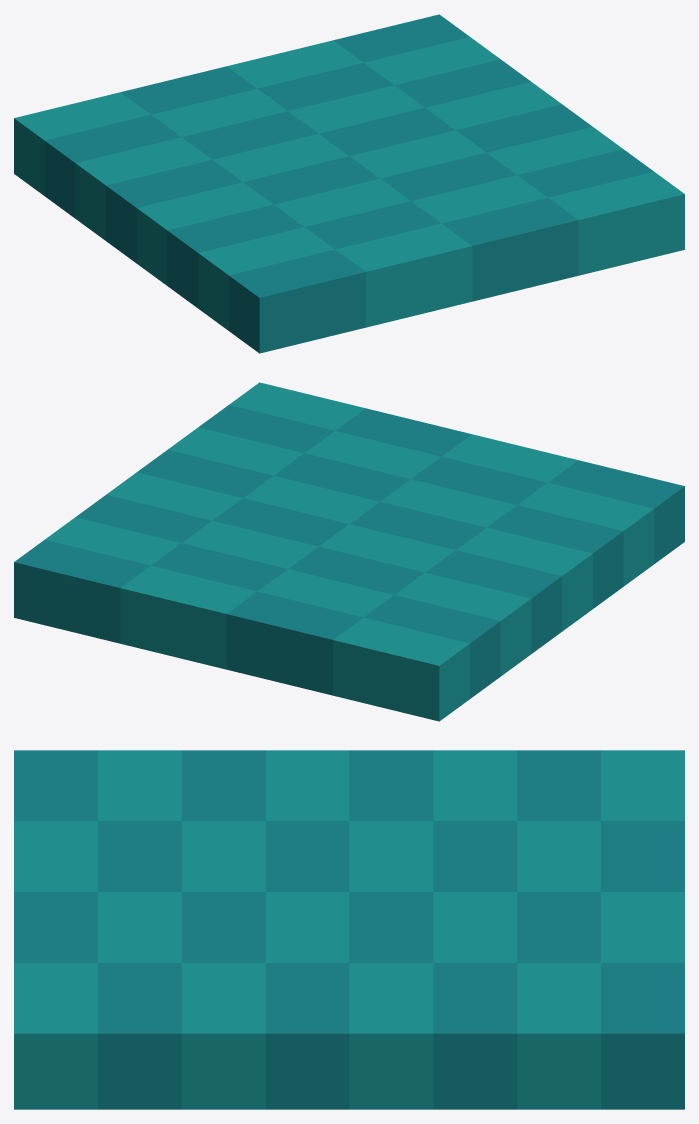
Rendered from carpet_cyan_model.glb.
The picture shows the model from 3 angles, top to bottom: view 1: azimuth 30°, elevation 25°; view 2: azimuth 150°, elevation 25°; view 3: azimuth 270°, elevation 25°; orthographic projection. The views are drawn at different scales.
Parts seen in each view (by area): view 1: Untitled; view 2: Untitled; view 3: Untitled.
Boxes of the visible parts, bbox=[...] form: Untitled: bbox=[14, 14, 684, 353]; Untitled: bbox=[14, 382, 684, 721]; Untitled: bbox=[14, 750, 684, 1109].
Size of the model in its own units: 0.8 by 0.1 by 0.8.
1 material, 1 textured.
